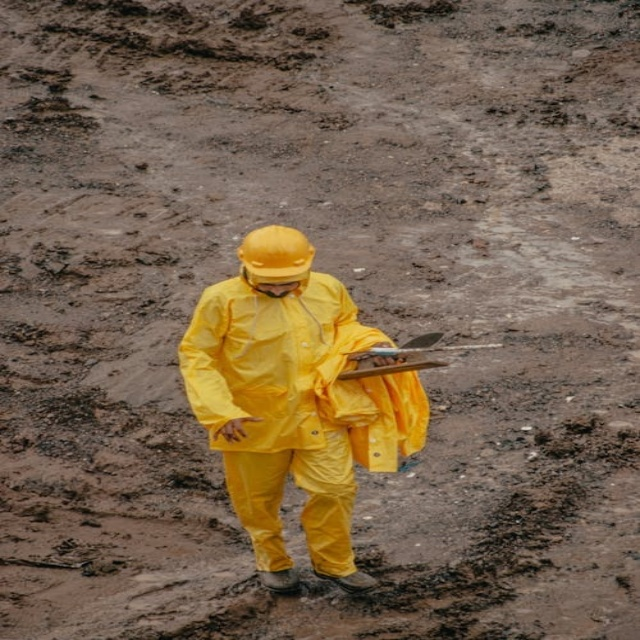Sin_guantes: (217, 416, 265, 443), (356, 352, 408, 369)
